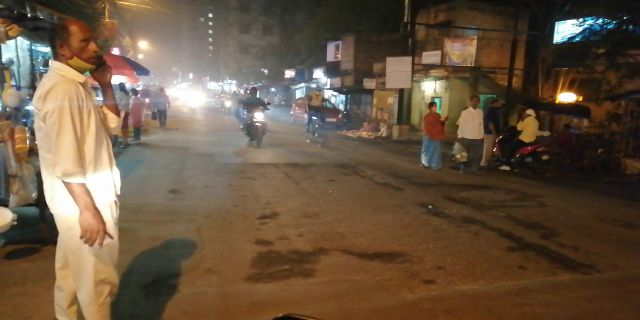Motorbike: (231, 86, 275, 152)
